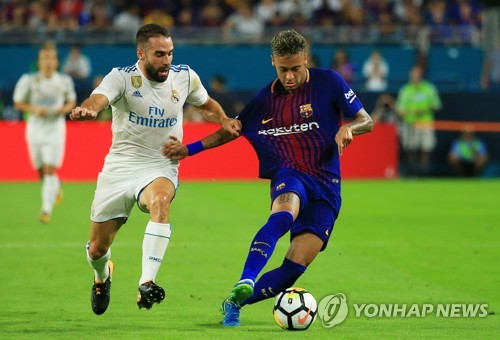barcelona: (184, 37, 376, 331)
realmadrid: (76, 29, 235, 313), (15, 40, 86, 222)
